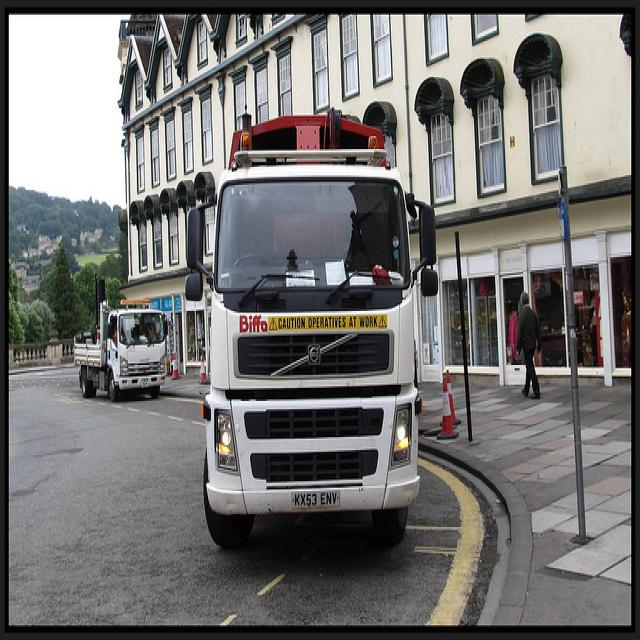Vehicle: (200, 153, 415, 544), (73, 298, 168, 403)
